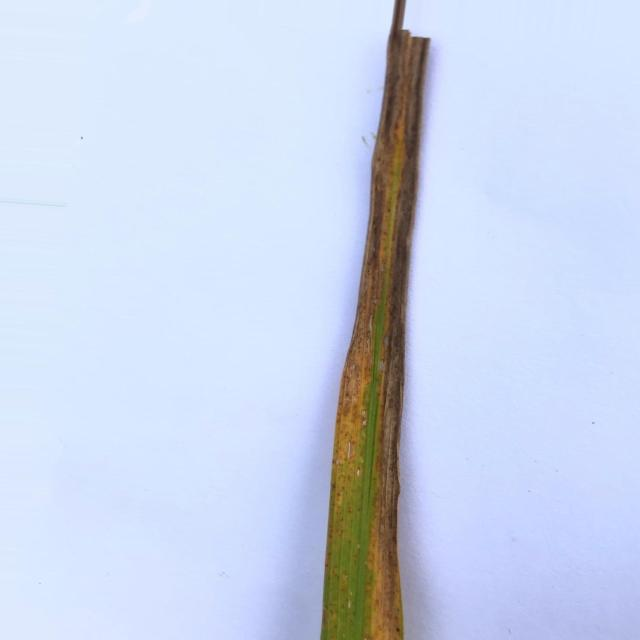Rice Tungro: (321, 0, 429, 639)
